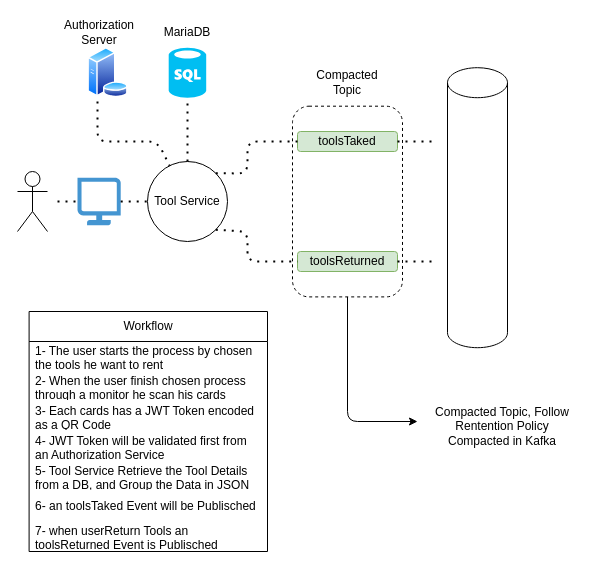
This 595x569 diagram has some shape labels left out. Here are the shapes that lost their labels. From the top down, the box of each, then its label:
(16, 170, 48, 232): User
(446, 67, 508, 348): Kafka Cluster
